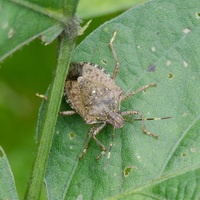insect: (65, 31, 156, 157)
